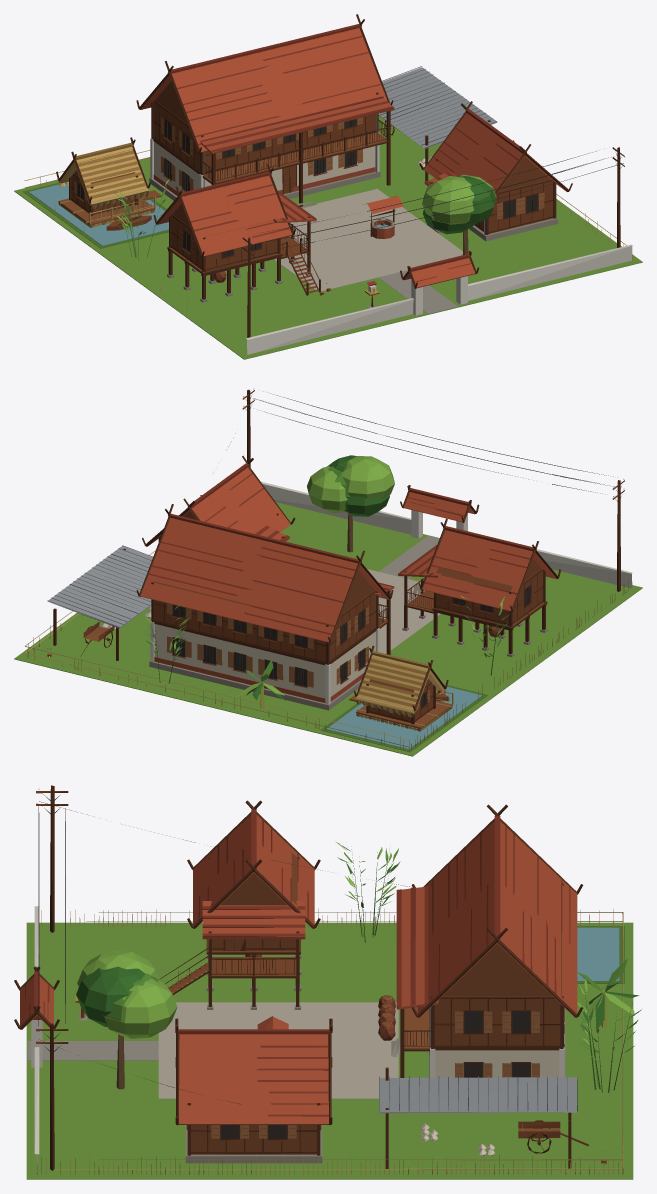
The model's file is home_5.glb.
3 views of the same model, one above another, from view 1: azimuth 30°, elevation 25°; view 2: azimuth 150°, elevation 25°; view 3: azimuth 270°, elevation 25° (orthographic). The views are drawn at different scales.
Visible parts, largest first — view 1: body, windows; view 2: body, windows; view 3: body, windows.
Part boxes in pixels (bbox=[...]): body: bbox=[14, 14, 642, 359]; windows: bbox=[77, 119, 537, 257]; body: bbox=[14, 388, 642, 756]; windows: bbox=[173, 586, 530, 707]; body: bbox=[14, 785, 641, 1179]; windows: bbox=[221, 1011, 529, 1138].
Size of the model in its own units: 31.9 by 10.95 by 33.06.
